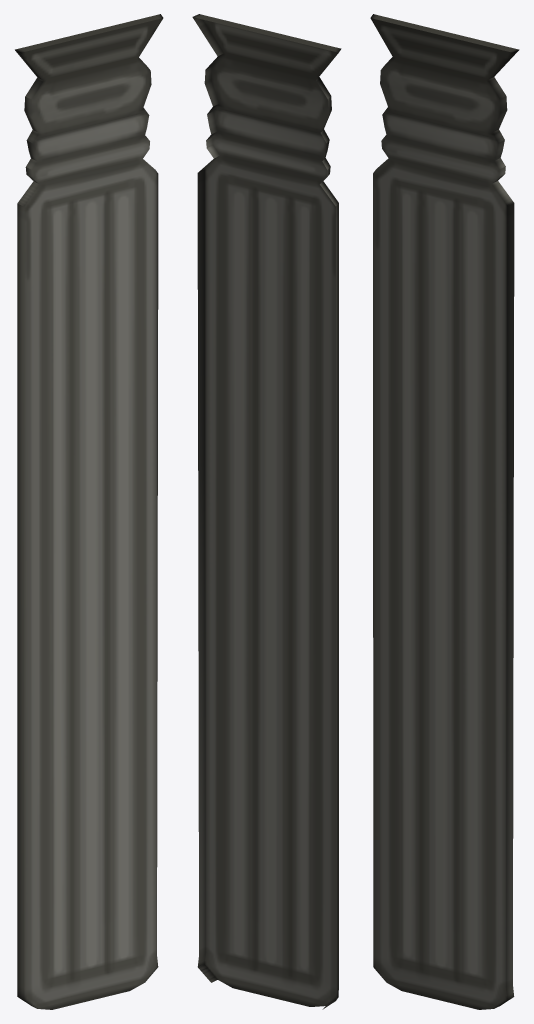
File: CardboardCutout_Collumn2_Scaled.fbx
The picture shows the model from 3 angles, left to right: view 1: azimuth 30°, elevation 25°; view 2: azimuth 150°, elevation 25°; view 3: azimuth 330°, elevation 25°; orthographic projection.
Parts seen in each view (by area): view 1: Collumn2; view 2: Collumn2; view 3: Collumn2.
Part boxes in pixels (x1,y1,x2,y2): Collumn2: (15, 14, 163, 1009); Collumn2: (192, 14, 341, 1009); Collumn2: (370, 14, 519, 1009).
Size of the model in its own units: 31.85 by 201 by 1.82.
